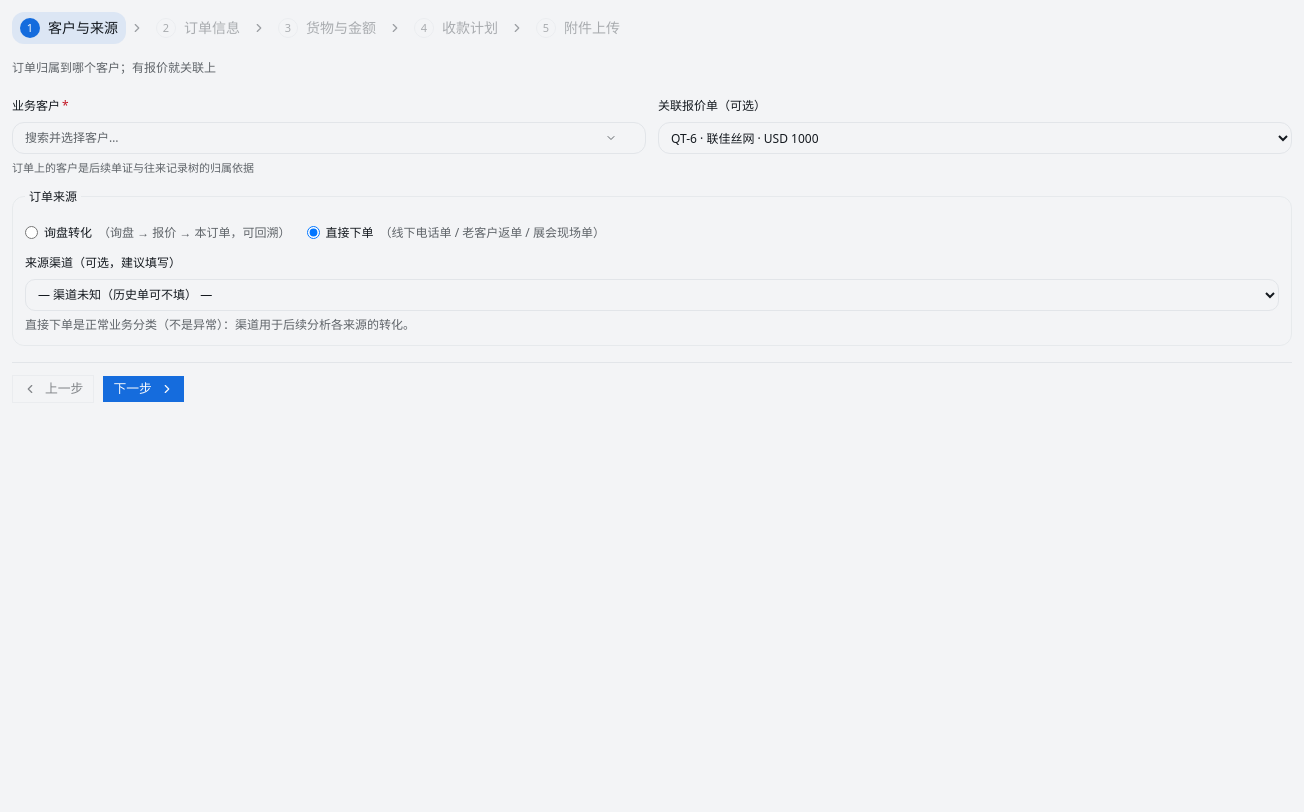
Test: 建单来源 › 后端 422 INQUIRY_REQUIRED ⇒ 错误提示翻译成操作指引
Select "QT-6 · 联佳丝网 · USD 1000" in the dropdown named "关联报价单" at (975, 138), box [658,122,1292,154]
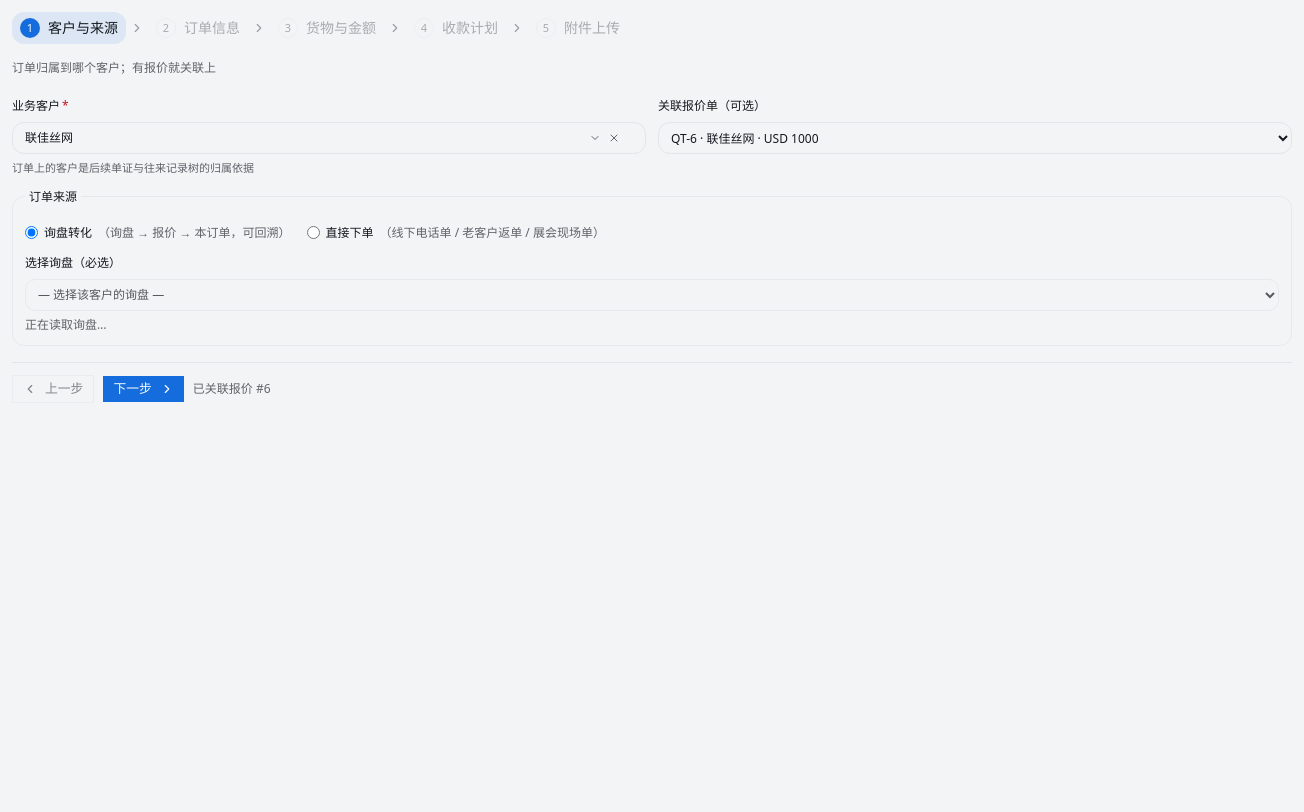
Click the button "下一步".
click(144, 388)  # box [102,374,185,402]
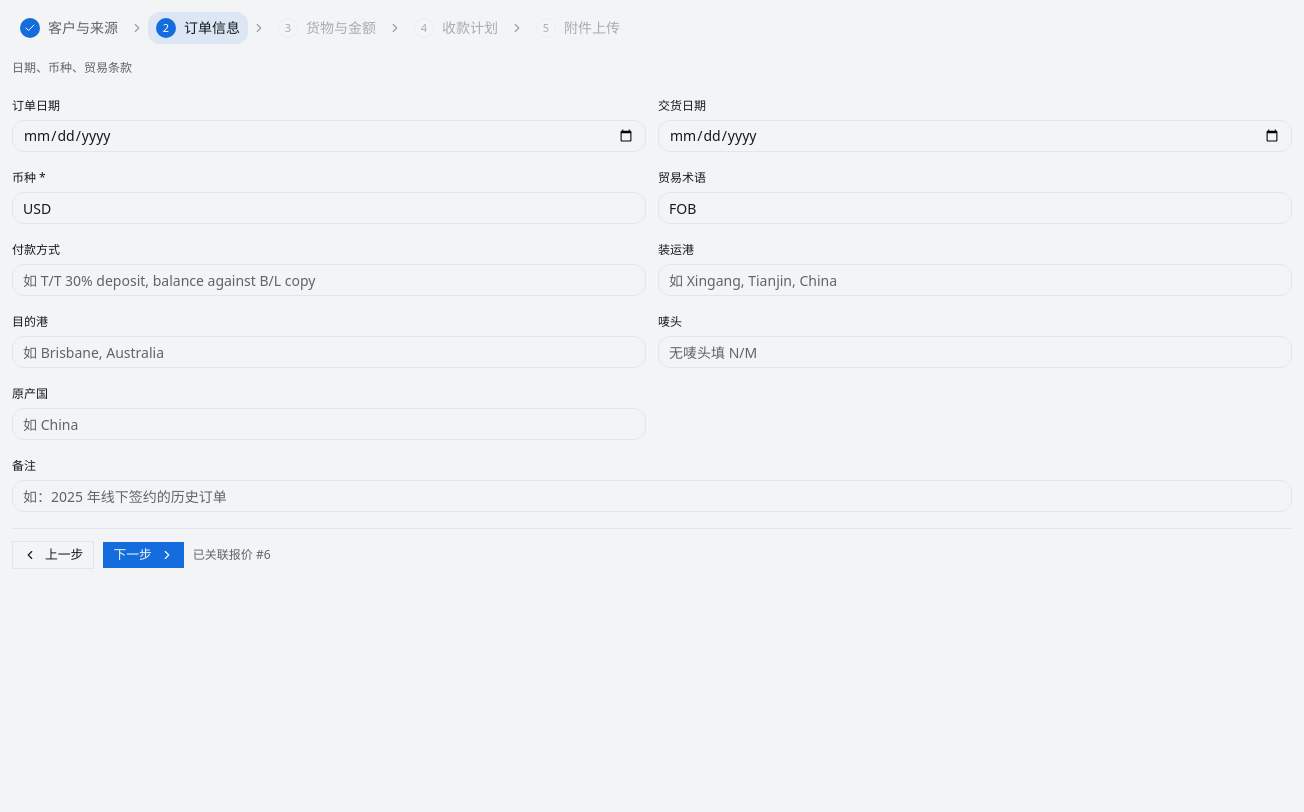
Click the button "下一步".
click(144, 555)  # box [102,541,185,569]
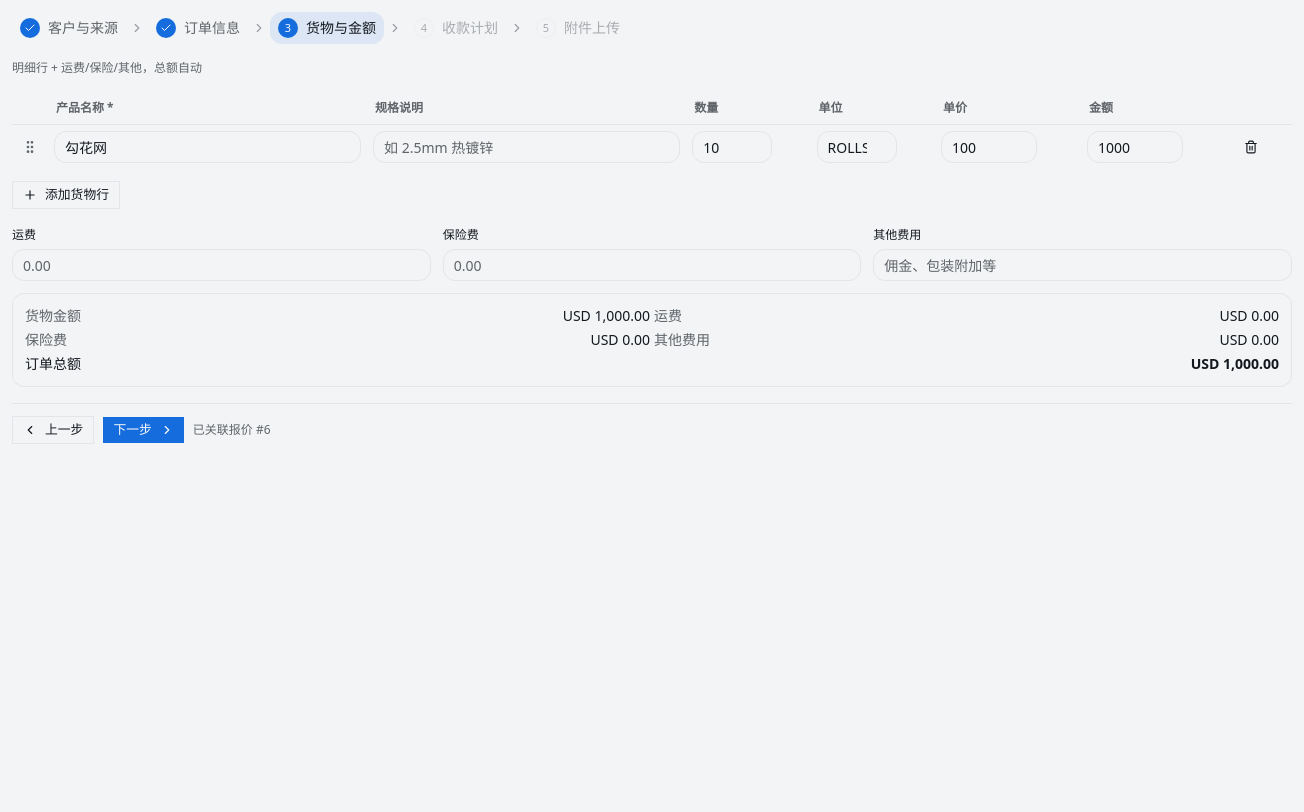
Click the button "下一步".
click(144, 430)  # box [102,416,185,444]
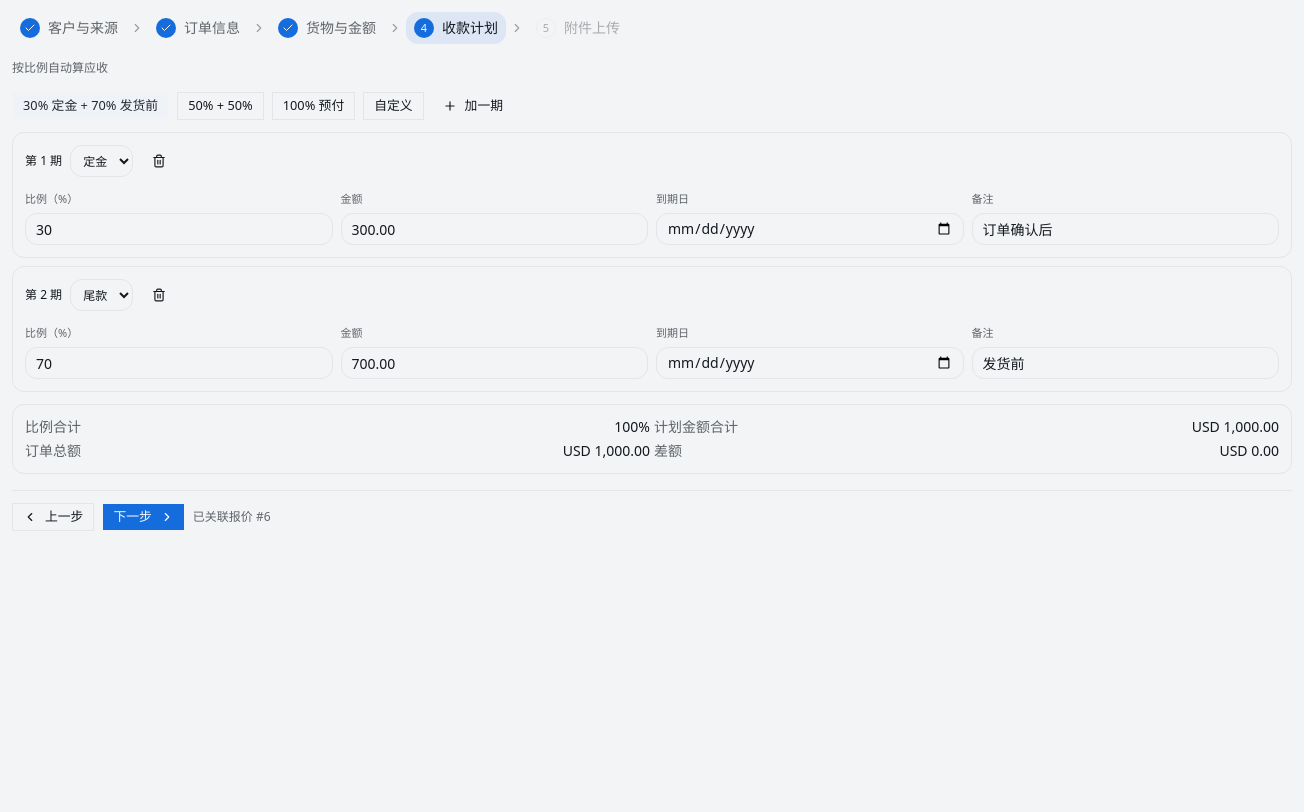
Click the button "下一步".
click(144, 517)  # box [102,503,185,531]
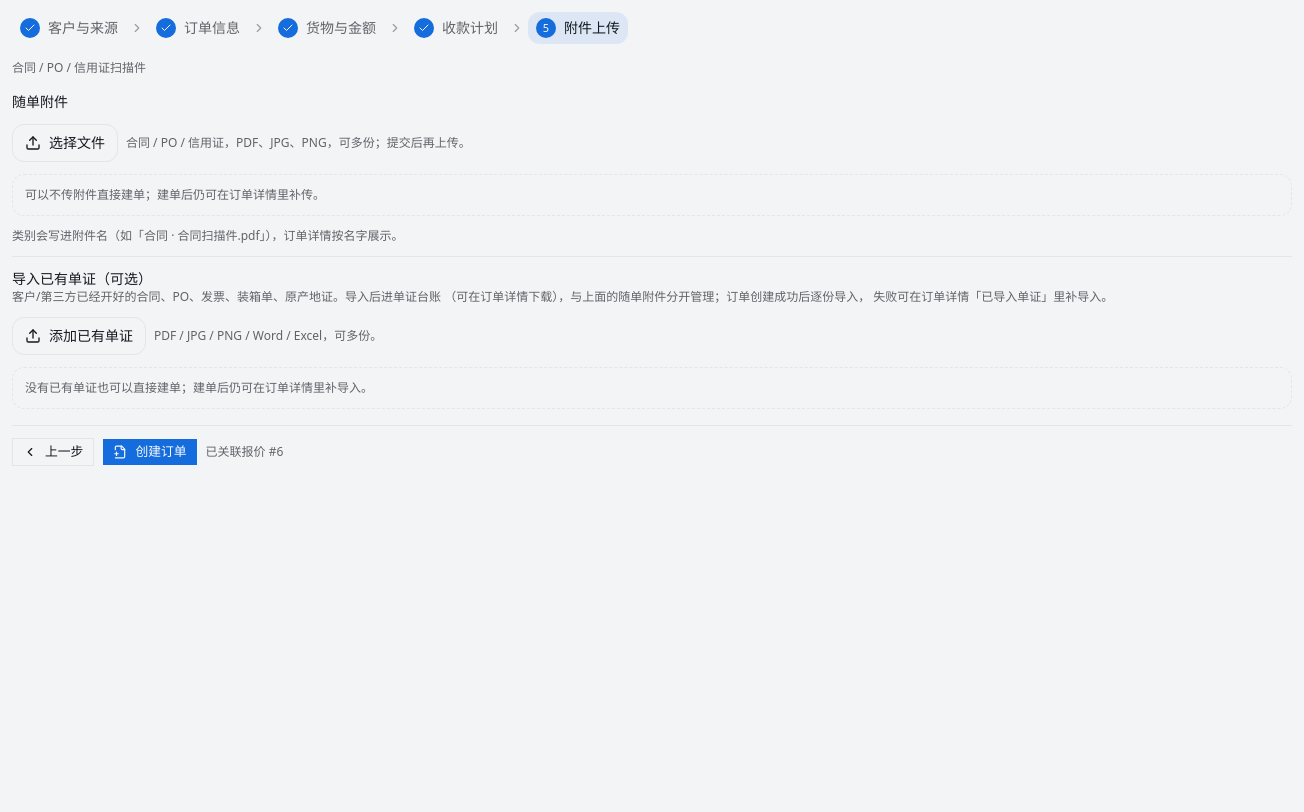
Click the button "创建订单".
click(150, 452)  # box [102,438,198,466]
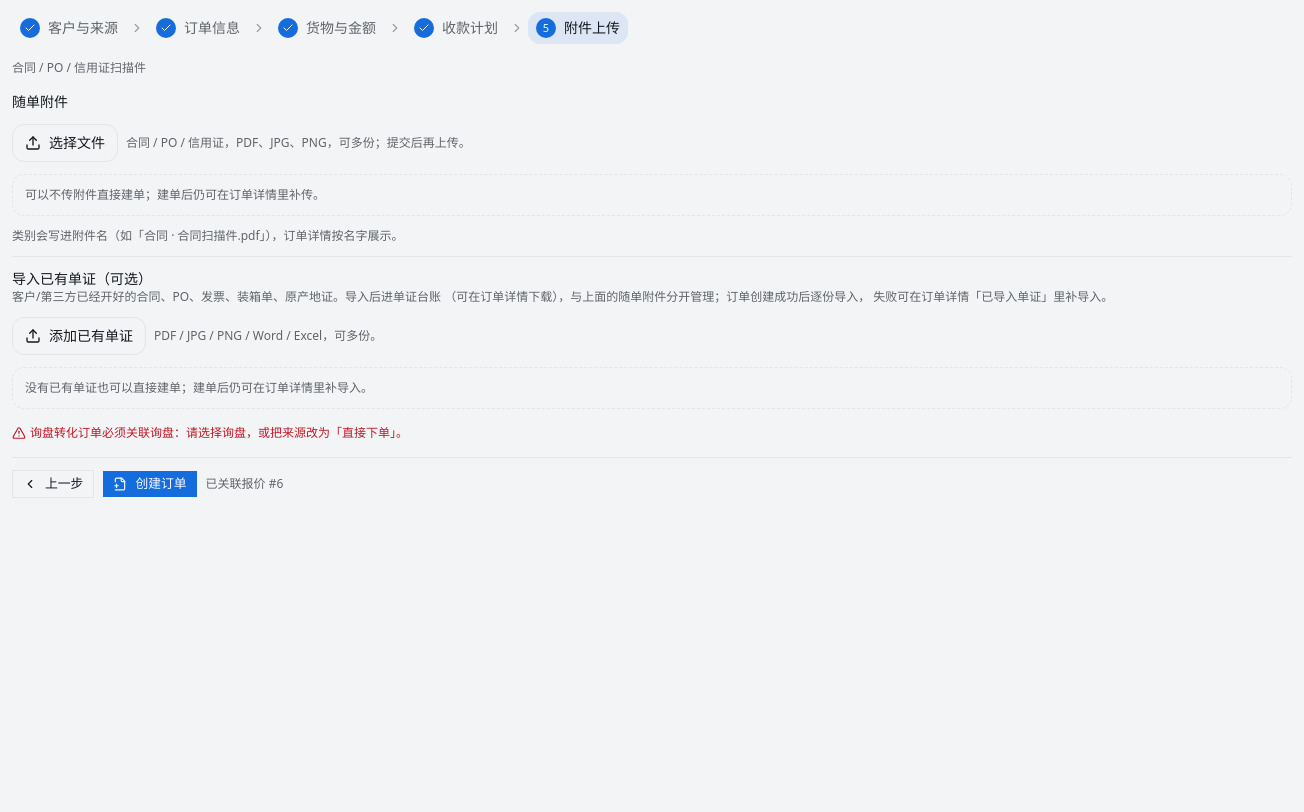
Check: the text "必须关联询盘" is shown, box [30,424,408,441]
Check: the text "直接下单" is shown, box [30,424,408,441]
